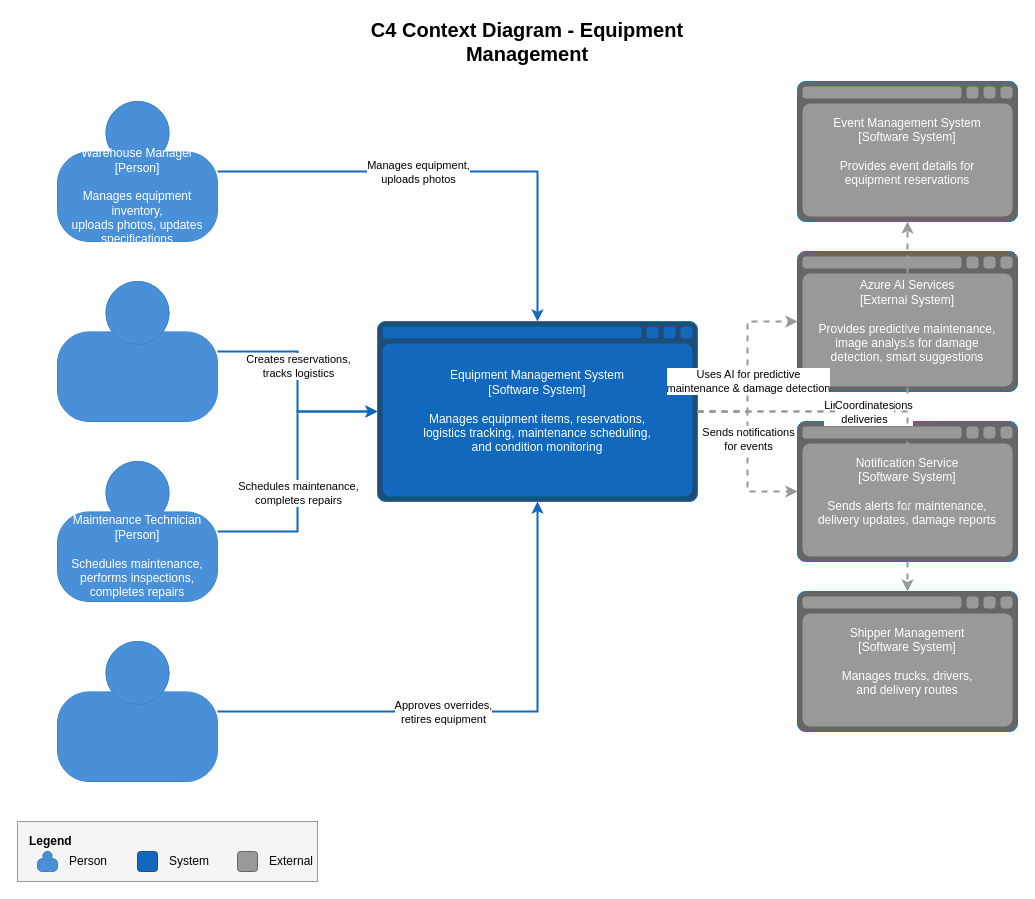
Image size: 1035x899. Some labels were removed from this diagram. Here are the shapes that lost their labels. From the top down, the centre of each, then its label:
the point at 137,351: Staff Member [Person] Creates reservations, tracks logistics, reports damage
the point at 137,711: Manager [Person] Approves overrides, retires equipment, reviews reports
